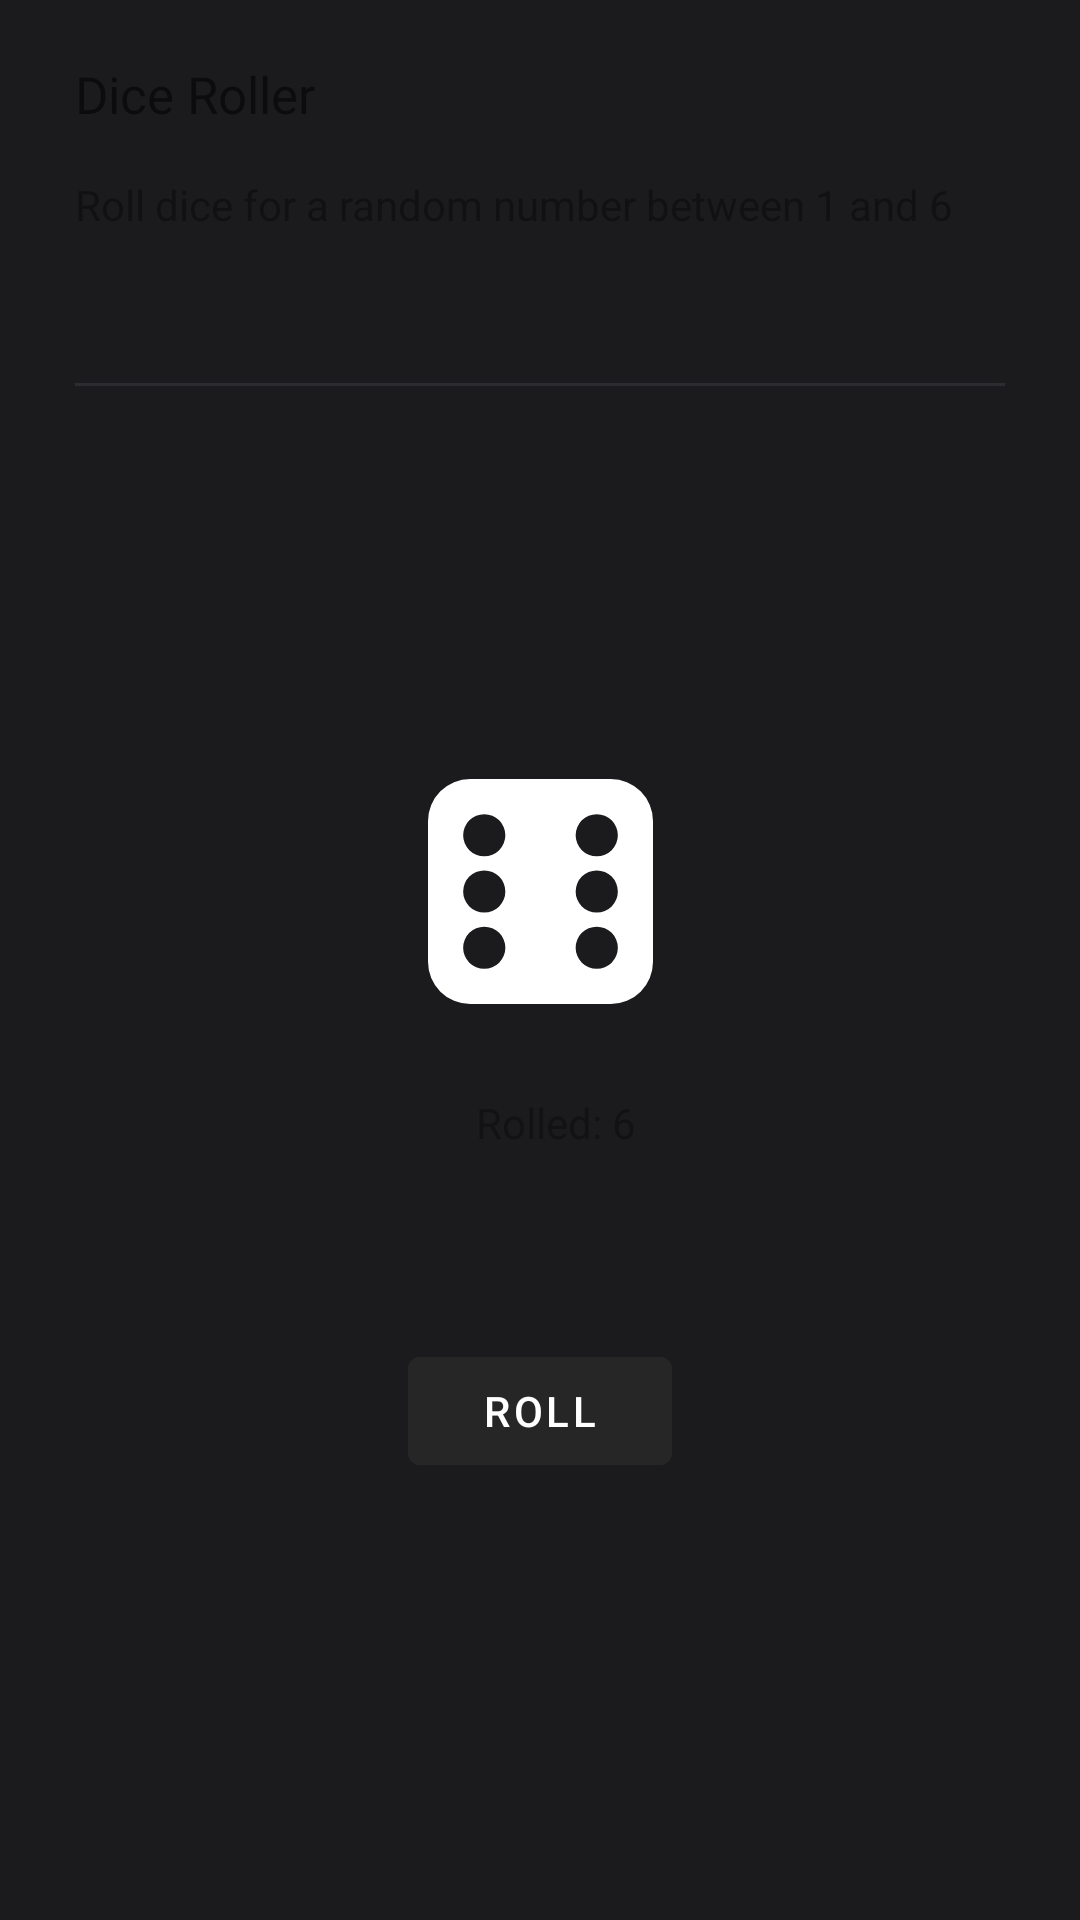

Icon bounding boxes for this 1080x1920 phone screenshot, format (x1, y1, x2, y2):
dice: (428, 779, 653, 1004)
